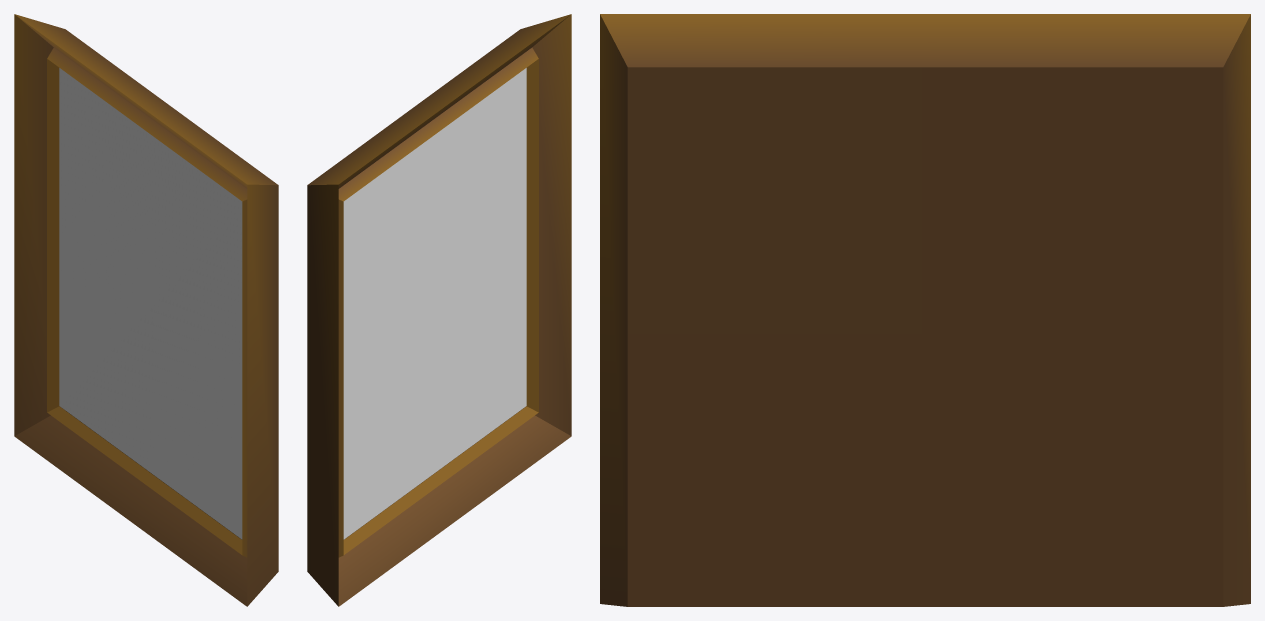
File: painting.glb
3 renders of one model, left to right at view 1: azimuth 30°, elevation 25°; view 2: azimuth 150°, elevation 25°; view 3: azimuth 270°, elevation 25°, orthographic. The views are drawn at different scales.
Parts seen in each view (by area): view 1: Cube.002; view 2: Cube.002; view 3: Cube.002.
Part boxes in pixels (x1=…): Cube.002: x1=14, y1=14, x2=278, y2=606; Cube.002: x1=307, y1=14, x2=571, y2=606; Cube.002: x1=600, y1=14, x2=1250, y2=606.
Bounding box in the file's own units: 0.1025 × 1 × 1.
